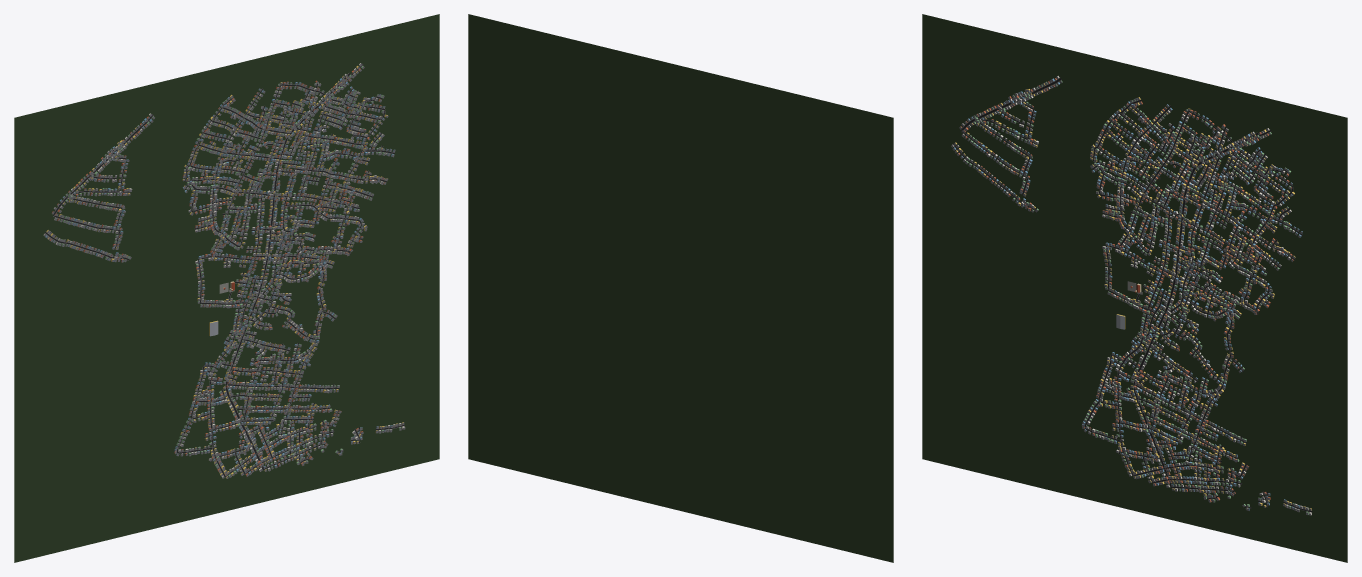
File: tecpan_city.obj
3 views of the same model, side by side, from view 1: azimuth 30°, elevation 25°; view 2: azimuth 150°, elevation 25°; view 3: azimuth 330°, elevation 25° (orthographic).
Parts seen in each view (by area): view 1: Terrain, Roads, Sidewalks; view 2: Terrain; view 3: Terrain, Roads, Sidewalks.
Part boxes in pixels (x1=…): Terrain: x1=14, y1=14, x2=439, y2=562; Roads: x1=45, y1=64, x2=404, y2=476; Sidewalks: x1=45, y1=65, x2=403, y2=477; Terrain: x1=468, y1=14, x2=893, y2=562; Terrain: x1=922, y1=14, x2=1347, y2=562; Roads: x1=953, y1=78, x2=1312, y2=512; Sidewalks: x1=953, y1=78, x2=1311, y2=512.
Size of the model in its own units: 2200 by 2200 by 24.9.
